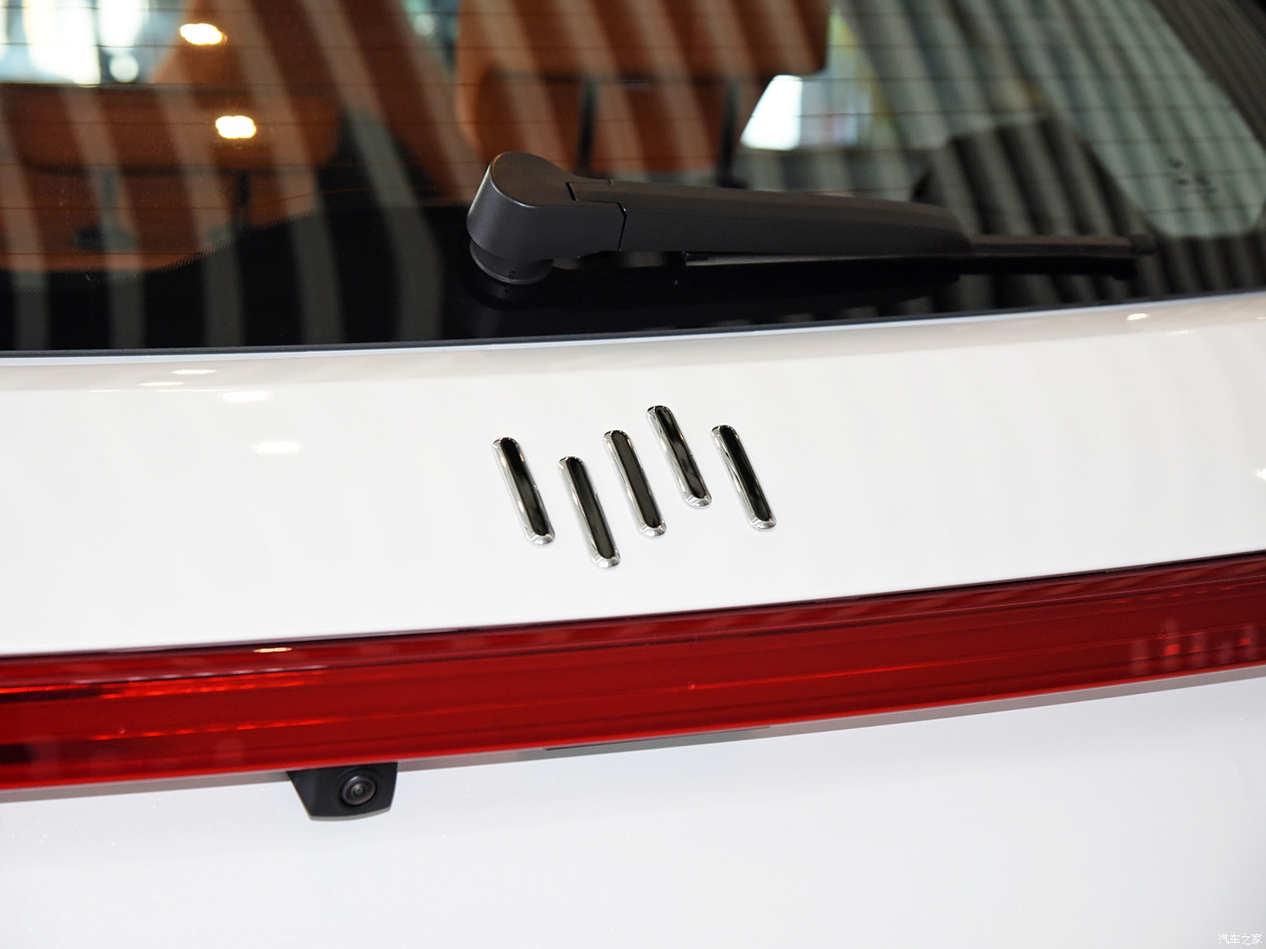WELTMEISTER: (493, 406, 775, 567)
